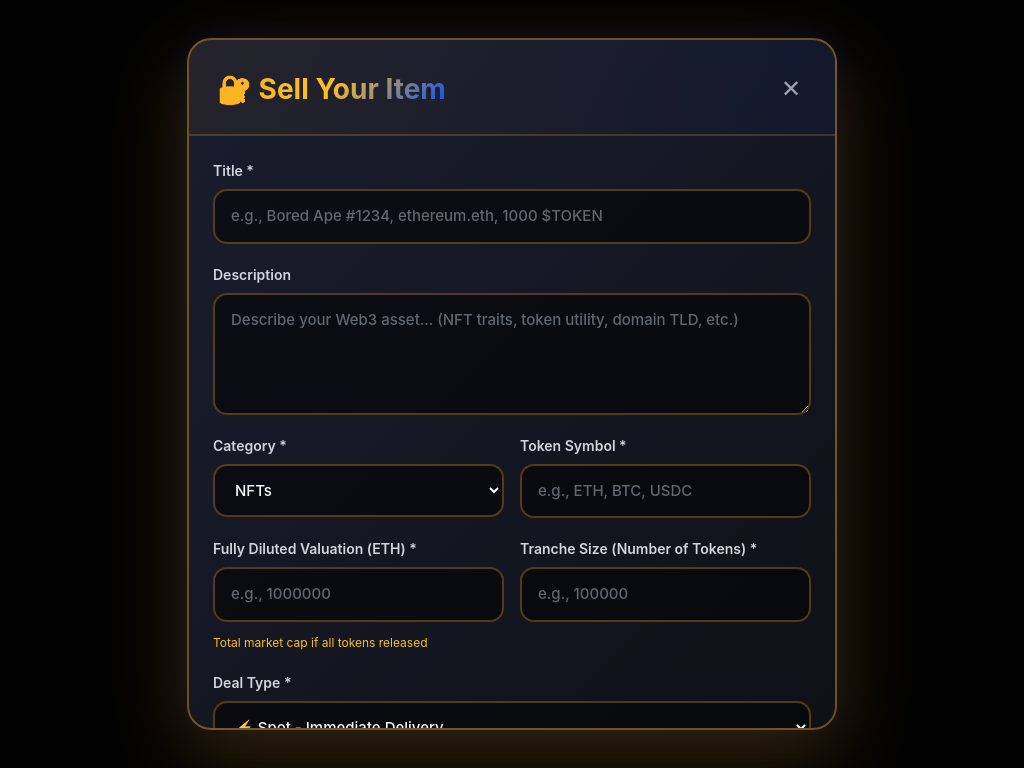
Test case: CreateListing Component › should show vesting input only for vesting deal type
The width and height of the screenshot is (1024, 768).
Expected: the field labelled "Vesting Duration" is not shown
Select "📅 Vesting - Token Vesting Schedule" in the dropdown labelled "Deal Type *". click: (512, 727)
box: top-left (213, 701), bottom-right (811, 754)
(page scrolled)
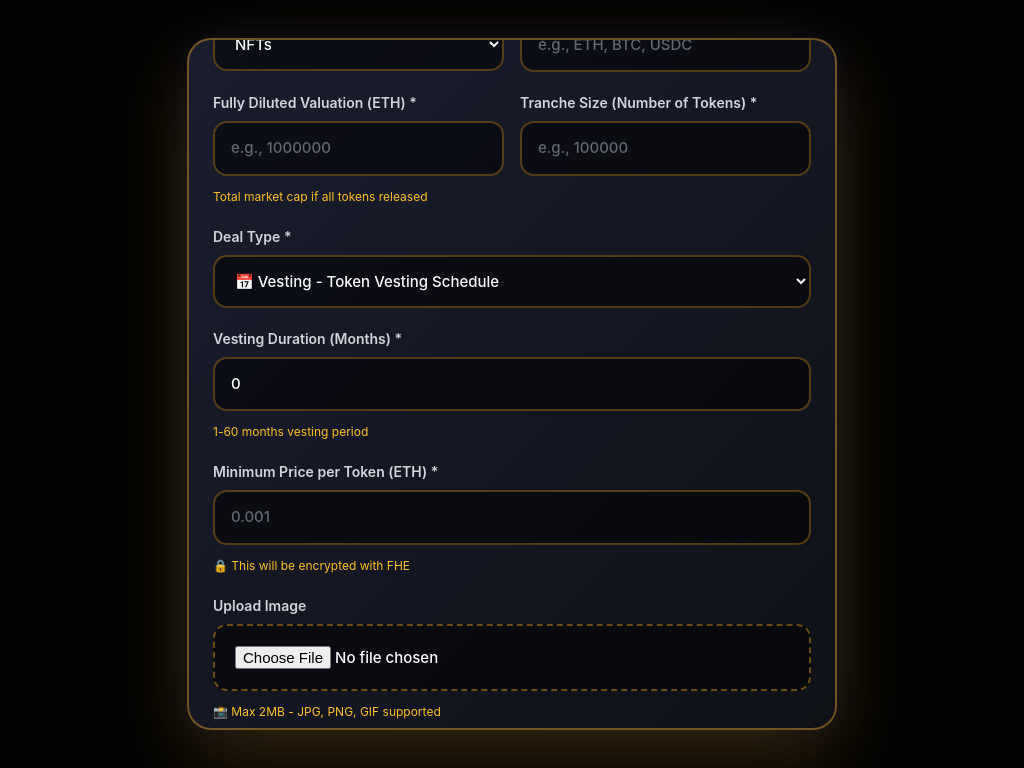
Expected: the number field labelled "Vesting Duration (Months) *" is shown, top-left (213, 357), bottom-right (811, 411)
